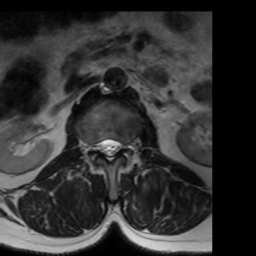CCS_normal: (105, 130, 113, 166)
LFS_stenosis: (122, 133, 130, 155)
LLS_normal: (113, 133, 122, 159)
RFS_normal: (89, 134, 97, 158)
RLS_normal: (97, 134, 105, 159)
